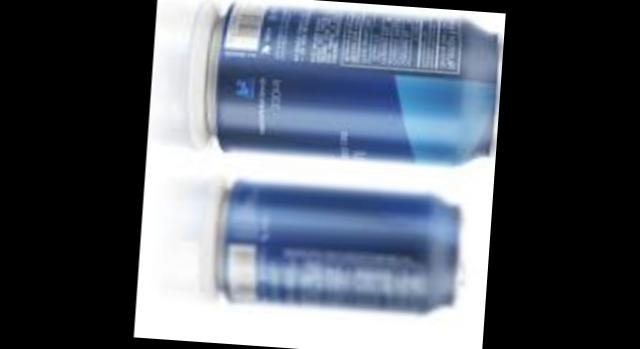metal: (213, 7, 504, 164), (221, 185, 461, 312)
